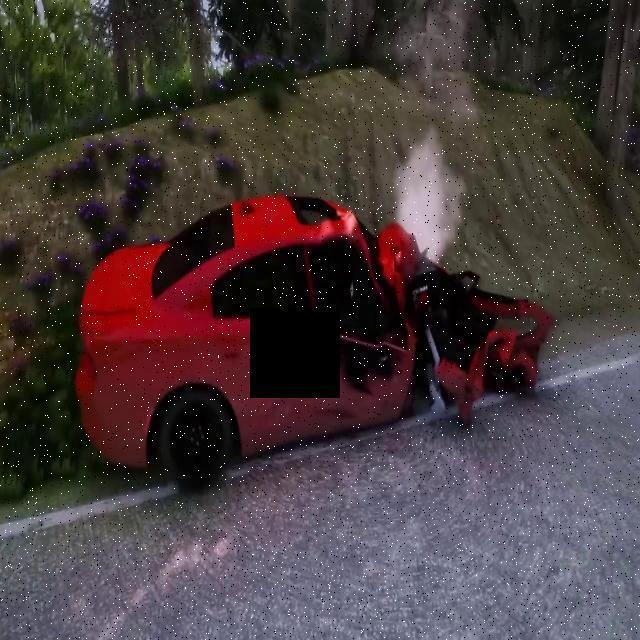vehicle: (48, 165, 560, 534)
